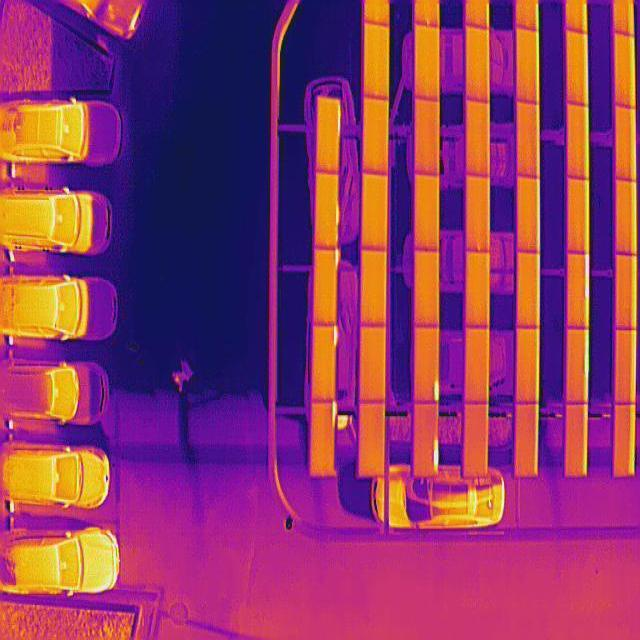No-Anomaly: (363, 21, 389, 99), (363, 95, 388, 175), (415, 95, 440, 175), (363, 172, 388, 252), (415, 21, 440, 101), (362, 250, 387, 328), (361, 325, 386, 403), (414, 174, 439, 251), (414, 249, 439, 326), (465, 99, 490, 175), (465, 326, 489, 404), (360, 402, 385, 476), (516, 102, 540, 178), (466, 175, 490, 251), (466, 25, 490, 101), (466, 250, 490, 325), (517, 250, 540, 328), (566, 102, 589, 178), (516, 176, 539, 252), (516, 27, 539, 102), (615, 179, 637, 255), (566, 28, 588, 104), (614, 32, 636, 108), (465, 402, 487, 477), (516, 328, 538, 402), (615, 106, 636, 182), (615, 254, 636, 330), (516, 404, 538, 476), (568, 178, 589, 252), (615, 402, 635, 478), (615, 330, 636, 402), (566, 404, 587, 475)
Unclassified: (313, 323, 337, 402), (315, 172, 339, 248), (314, 248, 338, 324), (415, 327, 439, 402), (566, 250, 589, 328), (317, 98, 341, 172), (312, 402, 336, 476), (414, 404, 438, 475), (567, 328, 589, 403)
